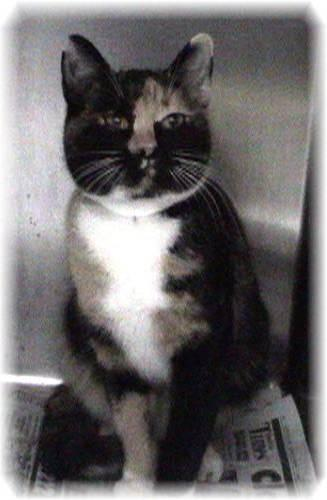cat: (18, 33, 284, 485)
